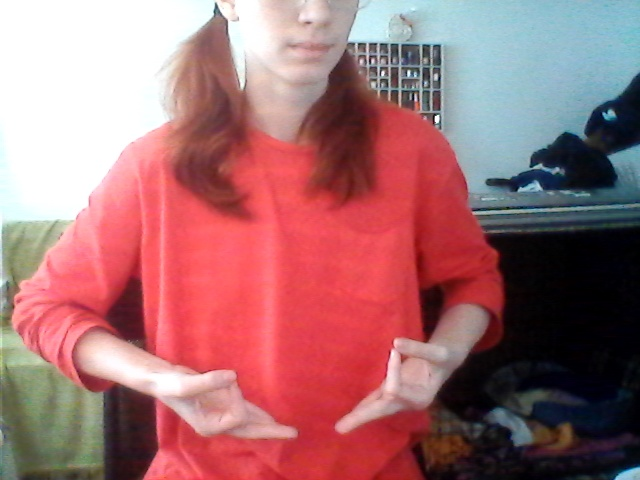preco: (140, 321, 469, 439)
